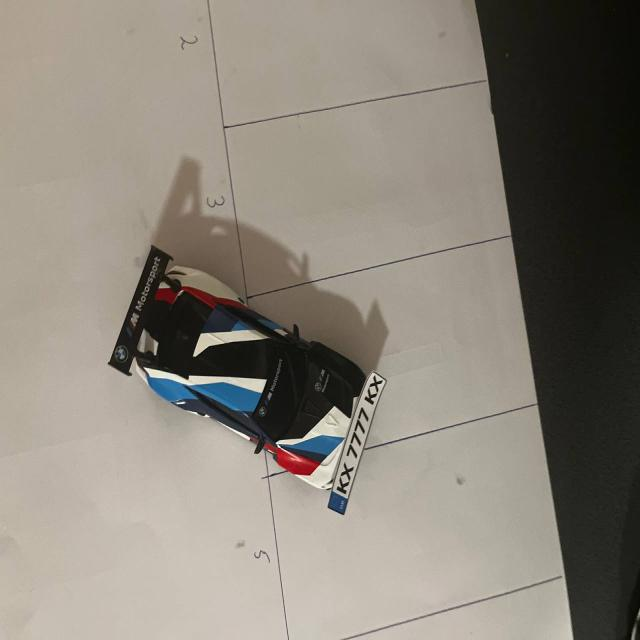KX 7777 KX: (324, 366, 388, 521)
